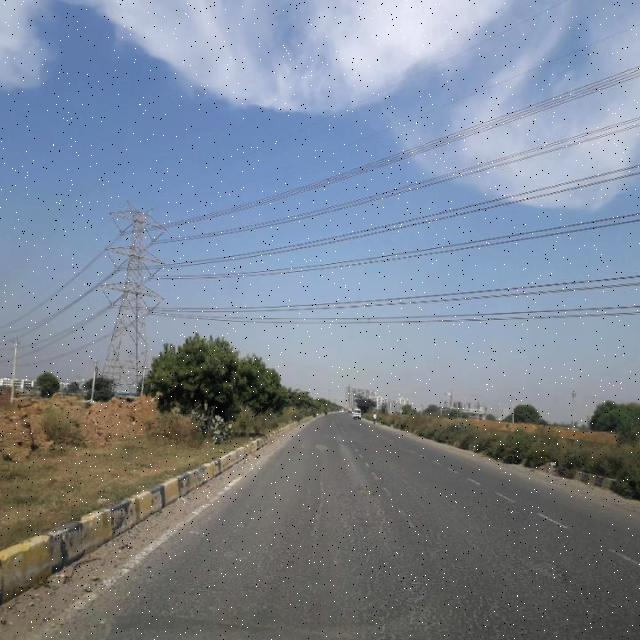D00: (306, 455, 327, 565)
D20: (244, 497, 618, 635)
D40: (516, 546, 566, 586), (356, 481, 390, 507), (302, 433, 336, 459)
